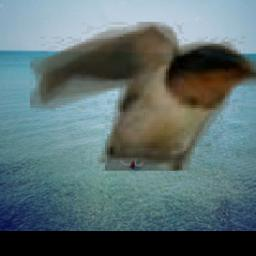Swallow: (31, 22, 256, 171)
